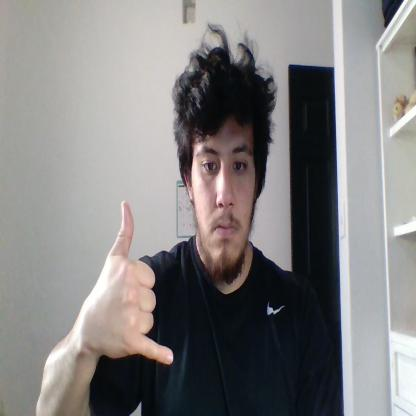Y: (95, 199, 174, 366)
